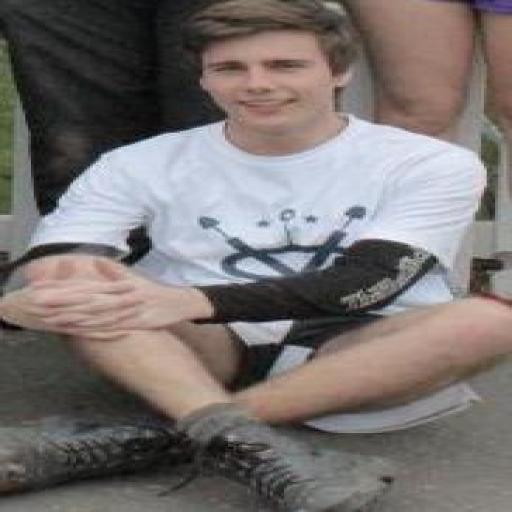person: (0, 0, 511, 510), (0, 0, 219, 214), (344, 0, 511, 146)
